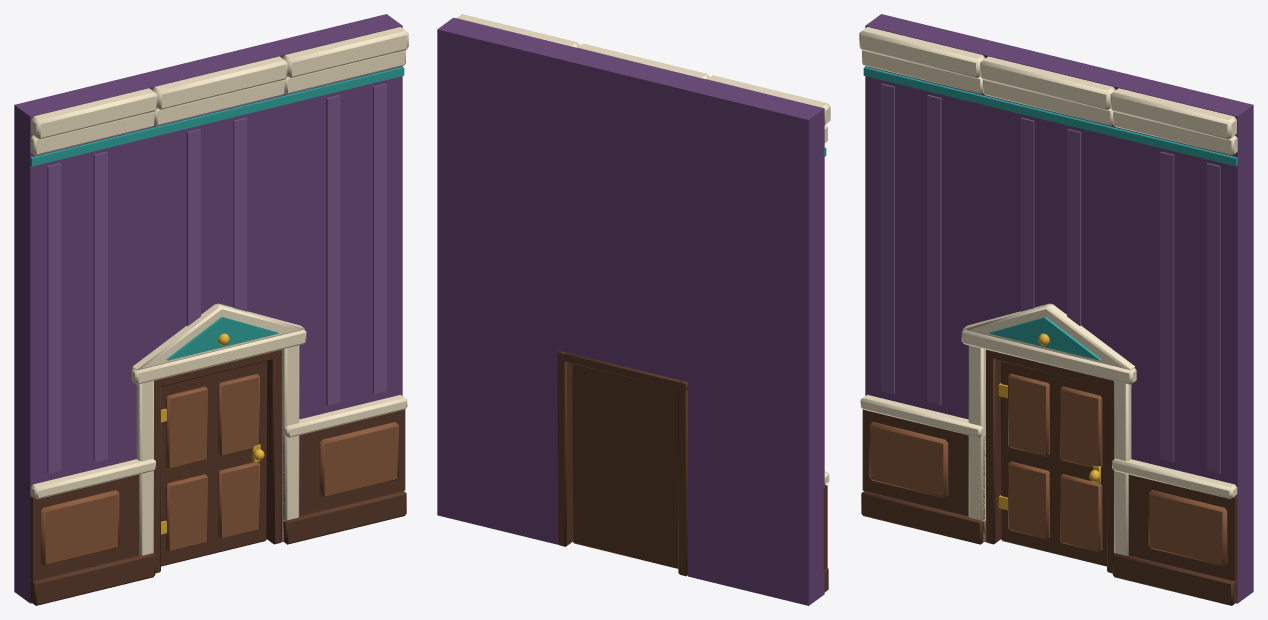
The model's file is wall_door.glb.
The picture shows the model from 3 angles, left to right: view 1: azimuth 30°, elevation 25°; view 2: azimuth 150°, elevation 25°; view 3: azimuth 330°, elevation 25°; orthographic projection.
Visible parts, largest first — view 1: wall_door; view 2: wall_door; view 3: wall_door.
Boxes of the visible parts, x1,y1,x2,y2 form: wall_door: (14, 14, 408, 605); wall_door: (437, 14, 830, 605); wall_door: (859, 14, 1253, 605).
Bounding box in the file's own units: 4 × 5 × 0.5071.
